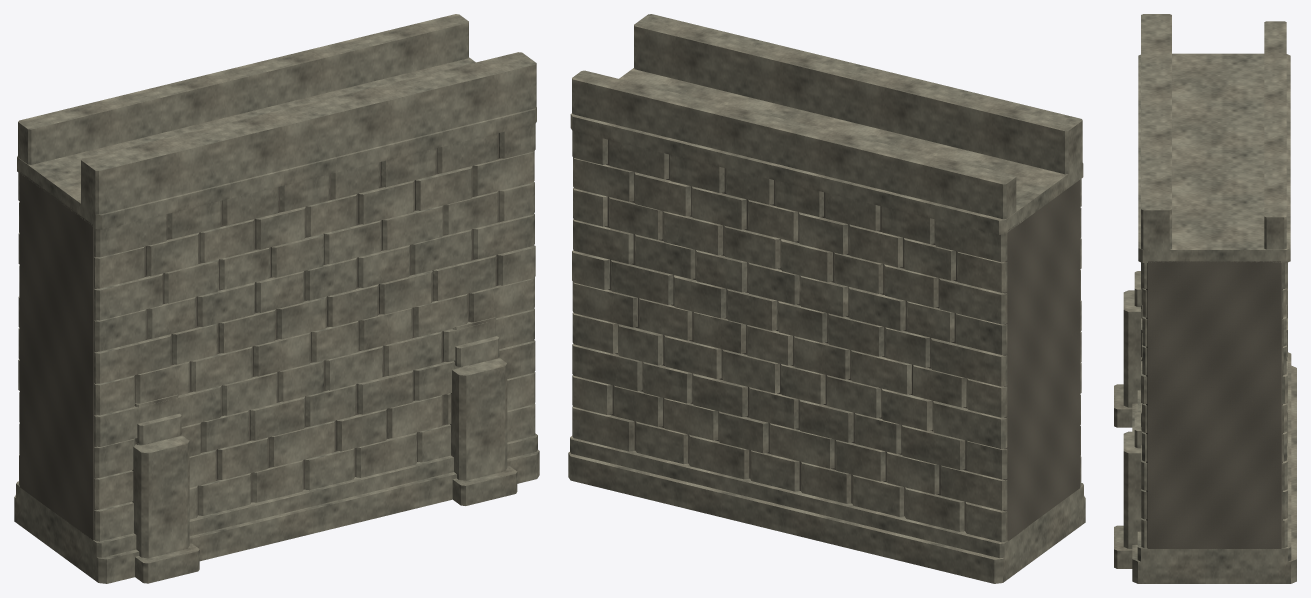
File: stone_wall_low_parapet.glb
The picture shows the model from 3 angles, left to right: view 1: azimuth 30°, elevation 25°; view 2: azimuth 150°, elevation 25°; view 3: azimuth 270°, elevation 25°; orthographic projection. The views are drawn at different scales.
Visible parts, largest first — view 1: Stone Wall Low Parapet; view 2: Stone Wall Low Parapet; view 3: Stone Wall Low Parapet.
Part boxes in pixels (x1,y1,x2,y2): Stone Wall Low Parapet: (14, 14, 539, 583); Stone Wall Low Parapet: (568, 14, 1085, 583); Stone Wall Low Parapet: (1114, 14, 1296, 583).
Size of the model in its own units: 6.4 by 5.68 by 2.52.
Materials: 2 (2 with a texture image).
